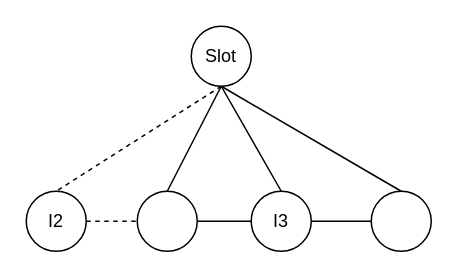
This 458x278 diagram has some shape labels left out. The shapes that lost their labels are listed below. From the top down, each one's centre as x and y in pixels, then its label:
At [166,220]: "I1".
At [400,220]: "I4".
